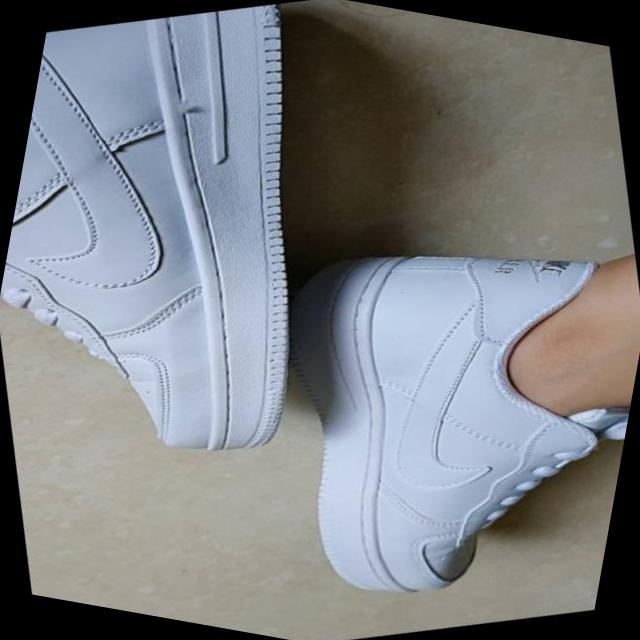nike_fake_airforce: (0, 0, 405, 533), (214, 171, 640, 640)
